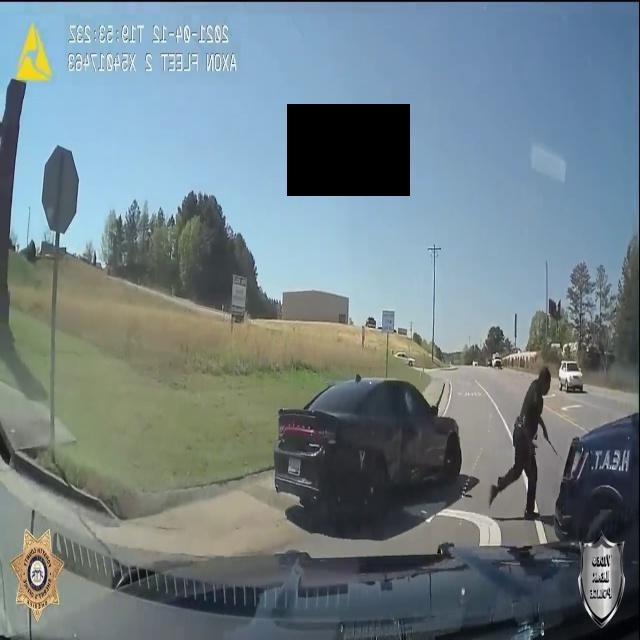gun: (537, 422, 562, 458)
